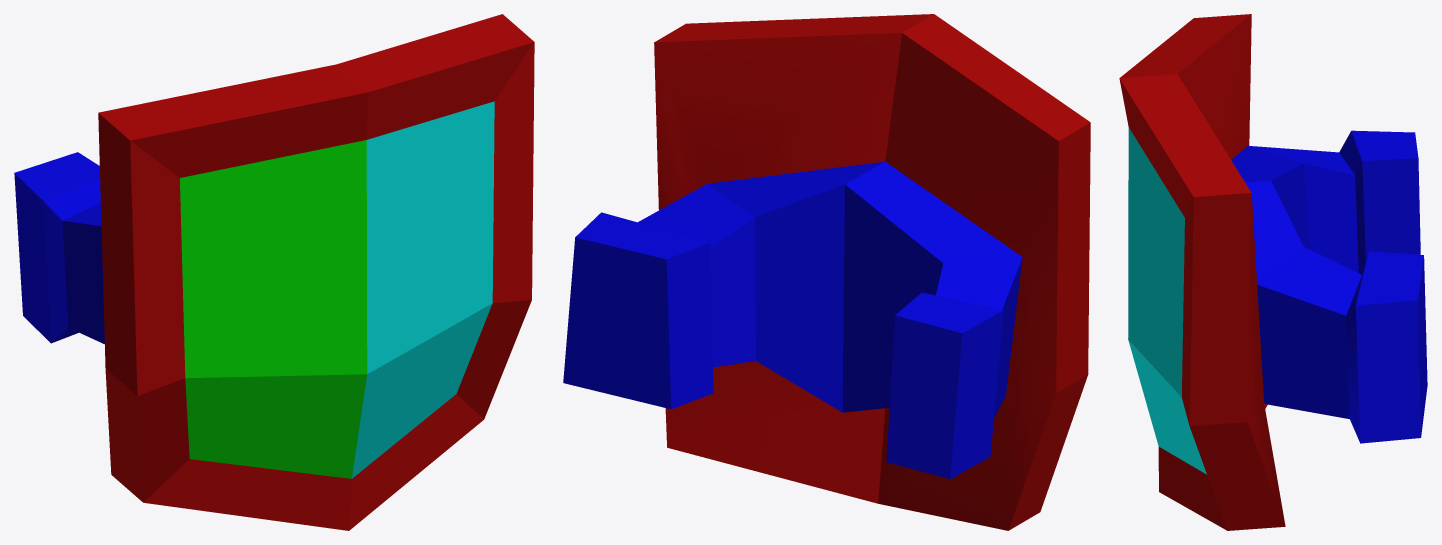
Rendered from Chr_KneeAttachRight_Static_10.fbx.
The picture shows the model from 3 angles, left to right: view 1: azimuth 30°, elevation 25°; view 2: azimuth 150°, elevation 25°; view 3: azimuth 270°, elevation 25°; orthographic projection. The views are drawn at different scales.
Visible parts, largest first — view 1: Chr_KneeAttachRight_10; view 2: Chr_KneeAttachRight_10; view 3: Chr_KneeAttachRight_10.
Part boxes in pixels (<box>): Chr_KneeAttachRight_10: <box>14,14,534,530</box>; Chr_KneeAttachRight_10: <box>563,14,1090,530</box>; Chr_KneeAttachRight_10: <box>1119,14,1427,530</box>.
Bounding box in the file's own units: 15.13 × 16.21 × 10.86.
